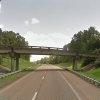Bridge: (3, 39, 93, 67)
